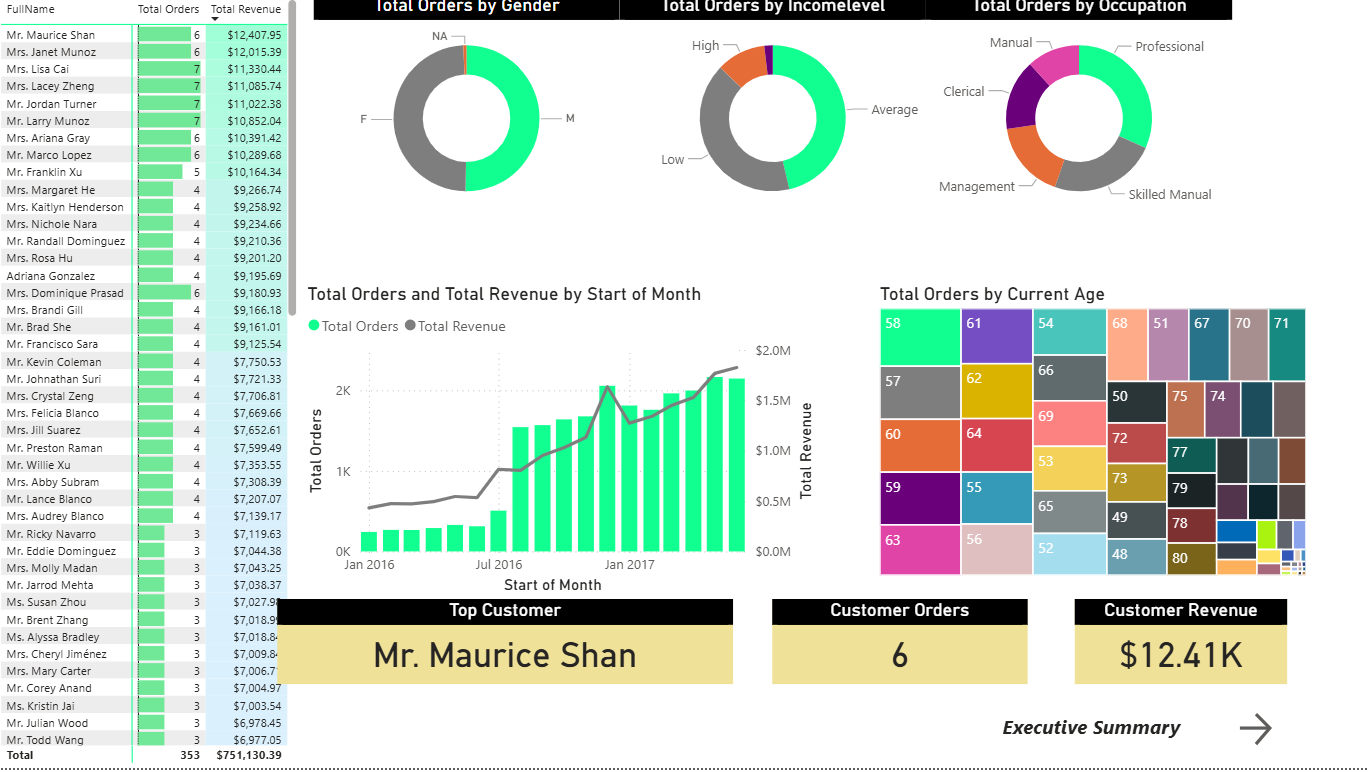

The dashboard page shown, as its layout file describes it:
{"tool":"powerbi","page":{"name":"Customer Detail","canvas":[1280,720],"ordinal":2},"visuals":[{"type":"pivotTable","fields":{"Rows":["AW_Customers_Lookup.FullName"],"Values":["AW_Sales.Total Orders","AW_Sales.Total Revenue"]},"box":[0,0,285.1,719.8],"z":0},{"type":"donutChart","fields":{"Category":["AW_Customers_Lookup.Gender"],"Y":["AW_Sales.Total Orders"]},"box":[295.1,0,285.1,212.4],"z":1000},{"type":"donutChart","fields":{"Category":["AW_Customers_Lookup.Incomelevel"],"Y":["AW_Sales.Total Orders"]},"box":[580.1,0,285.1,212.4],"z":2000},{"type":"donutChart","fields":{"Category":["AW_Customers_Lookup.Occupation"],"Y":["AW_Sales.Total Orders"]},"box":[865.2,0,285.1,212.4],"z":3000},{"type":"lineClusteredColumnComboChart","fields":{"Y":["AW_Sales.Total Orders"],"Y2":["AW_Sales.Total Revenue"],"Category":["AW_Calendar_Lookup.Start of Month"]},"box":[285.4,269,481.6,293.7],"z":4000},{"type":"treemap","fields":{"Group":["AW_Customers_Lookup.Current Age"],"Values":["AW_Sales.Total Orders"]},"box":[817.8,269,406.2,277.2],"z":5000},{"type":"card","title":"Top Customer","fields":{"Values":["AW_Customers_Lookup.FullName"]},"box":[262.1,562.6,424,79.6],"z":6000},{"type":"card","title":"Customer Orders","fields":{"Values":["AW_Sales.Total Orders"]},"box":[722.5,563.1,237.4,79.1],"z":7000},{"type":"card","title":"Customer Revenue","fields":{"Values":["AW_Sales.Total Revenue"]},"box":[1004,563.1,197.9,79.1],"z":8000},{"type":"textbox","box":[931.7,664.2,241.5,56.3],"z":9000},{"type":"actionButton","box":[1151.3,664.2,100.2,39.8],"z":10000}]}

Visuals, with their boxes in screenshot pixels (x1, y1, x2, y2), scaled from the page's 1280x720 canvas onto the 1368x772 screenshot:
pivotTable - AW_Customers_Lookup.FullName x AW_Sales.Total Orders: (0, 0, 305, 771)
donutChart - AW_Customers_Lookup.Gender x AW_Sales.Total Orders: (315, 0, 620, 228)
donutChart - AW_Customers_Lookup.Incomelevel x AW_Sales.Total Orders: (620, 0, 925, 228)
donutChart - AW_Customers_Lookup.Occupation x AW_Sales.Total Orders: (925, 0, 1229, 228)
lineClusteredColumnComboChart - AW_Sales.Total Orders x AW_Sales.Total Revenue: (305, 288, 820, 603)
treemap - AW_Customers_Lookup.Current Age x AW_Sales.Total Orders: (874, 288, 1308, 586)
"Top Customer" card: (280, 603, 733, 689)
"Customer Orders" card: (772, 604, 1026, 689)
"Customer Revenue" card: (1073, 604, 1285, 689)
textbox: (996, 712, 1254, 771)
actionButton: (1230, 712, 1338, 755)
